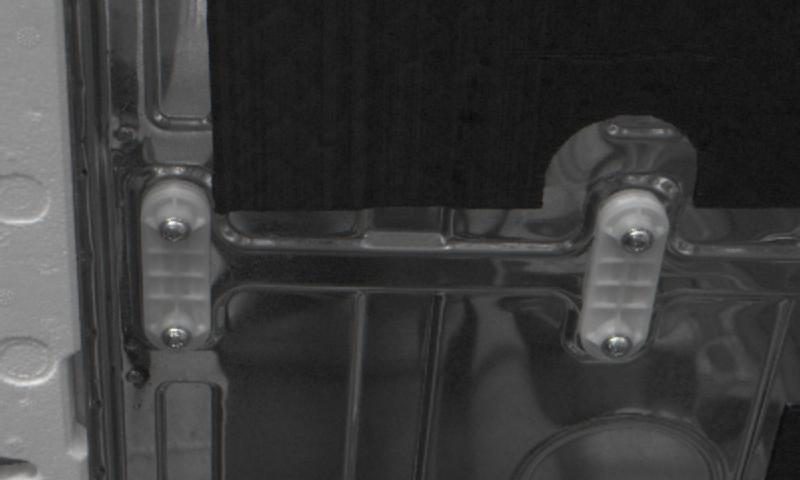vida-ok: (615, 223, 659, 262), (153, 213, 192, 253), (601, 321, 640, 360), (155, 320, 192, 355)
